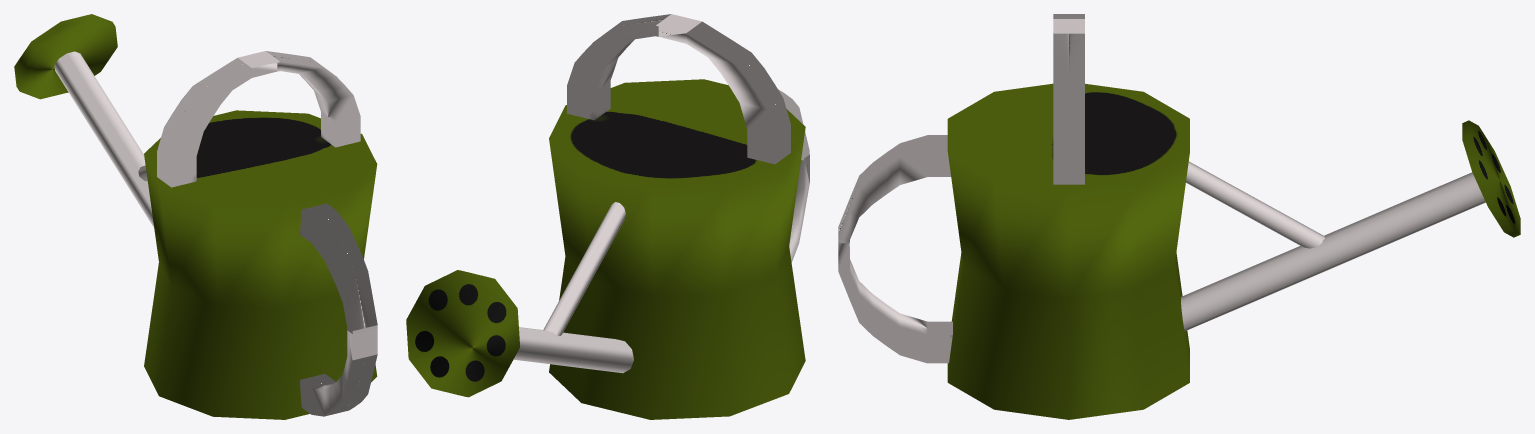
The model's file is wateringcanS.fbx.
3 views of the same model, side by side, from view 1: azimuth 30°, elevation 25°; view 2: azimuth 150°, elevation 25°; view 3: azimuth 270°, elevation 25° (orthographic). The views are drawn at different scales.
Parts seen in each view (by area): view 1: wateringcan1; view 2: wateringcan1; view 3: wateringcan1.
Part boxes in pixels (x1=…): wateringcan1: x1=14, y1=14, x2=377, y2=419; wateringcan1: x1=406, y1=14, x2=809, y2=419; wateringcan1: x1=838, y1=14, x2=1520, y2=419.
Bounding box in the file's own units: 8.07 × 11.85 × 21.61.
